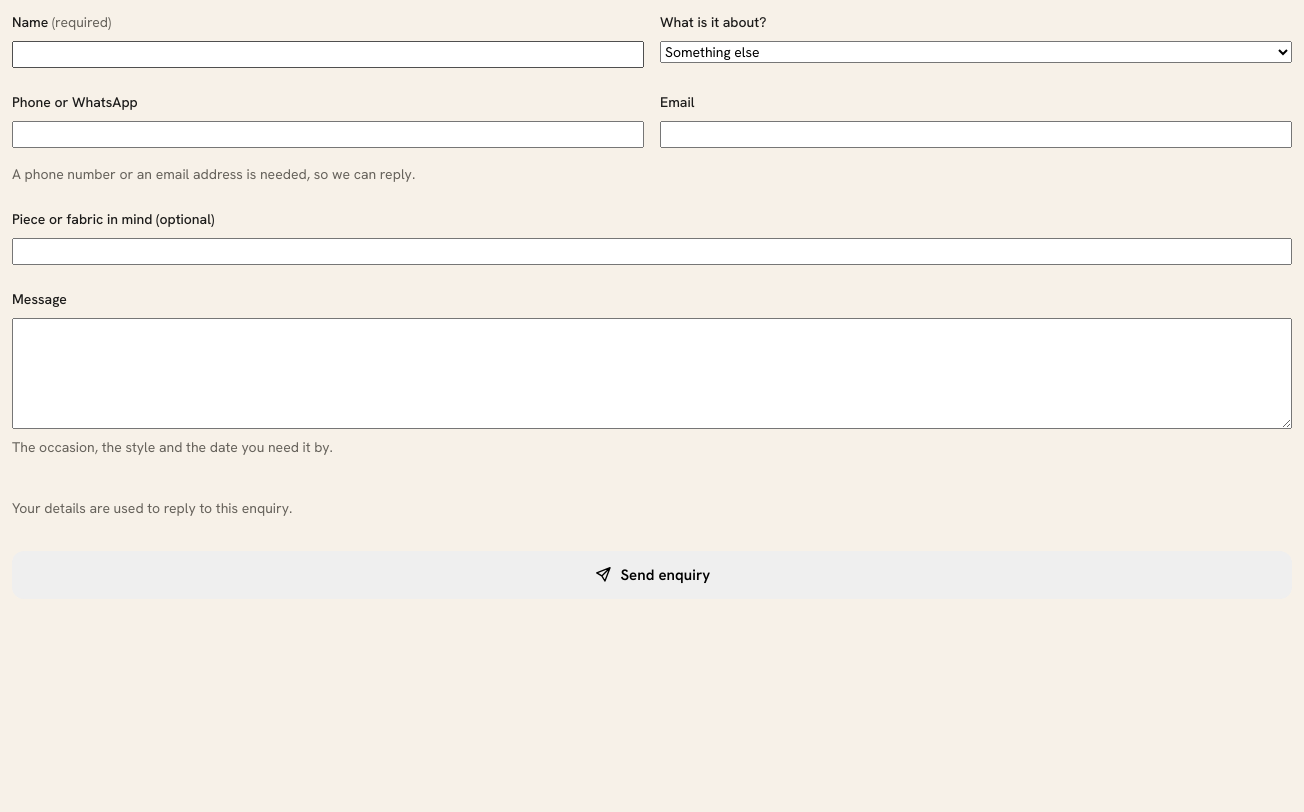
public enquiry form: sending › shows the server message, keeps what was typed and lets the visitor try again
In the field labelled "Name (required)": [328, 54] box [12,41,644,68], type "Ada"
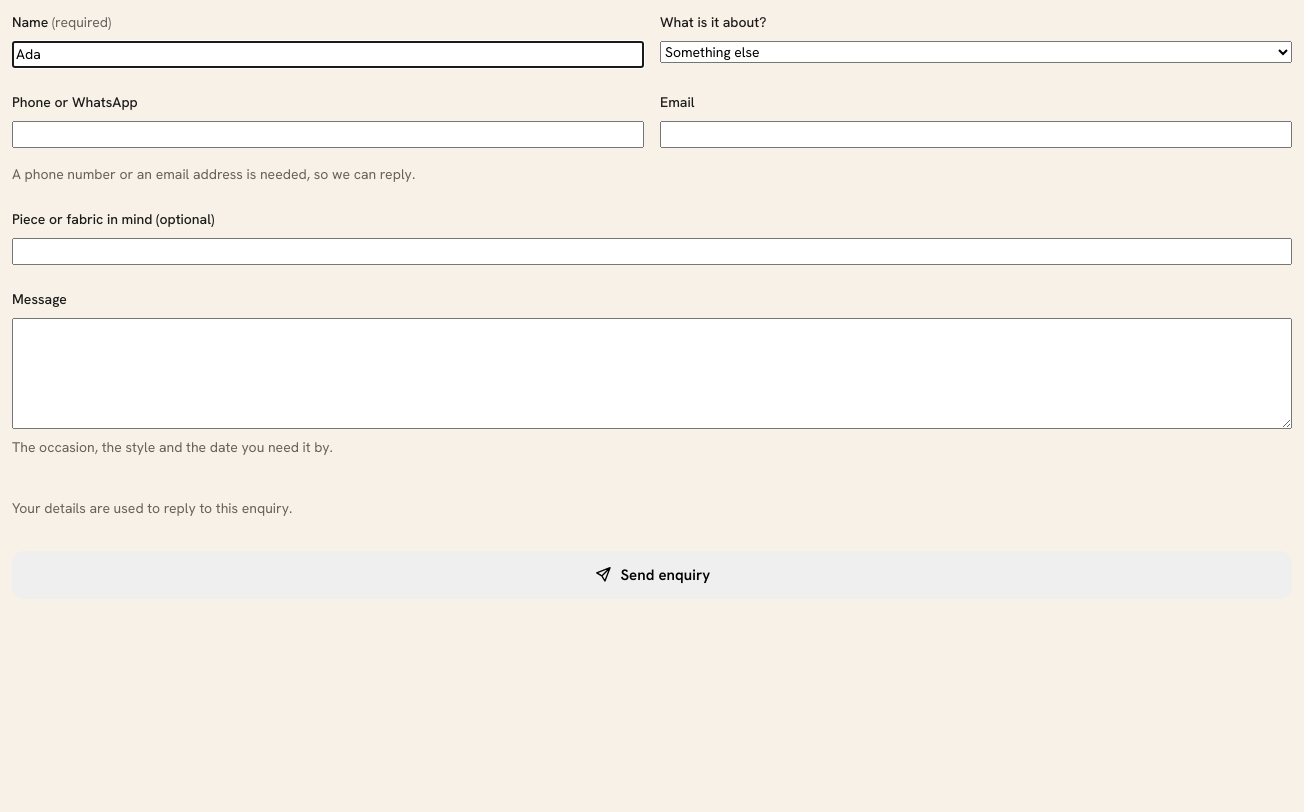
In the field labelled "Phone or WhatsApp": [328, 134] box [12,121,644,148], type "08031234567"
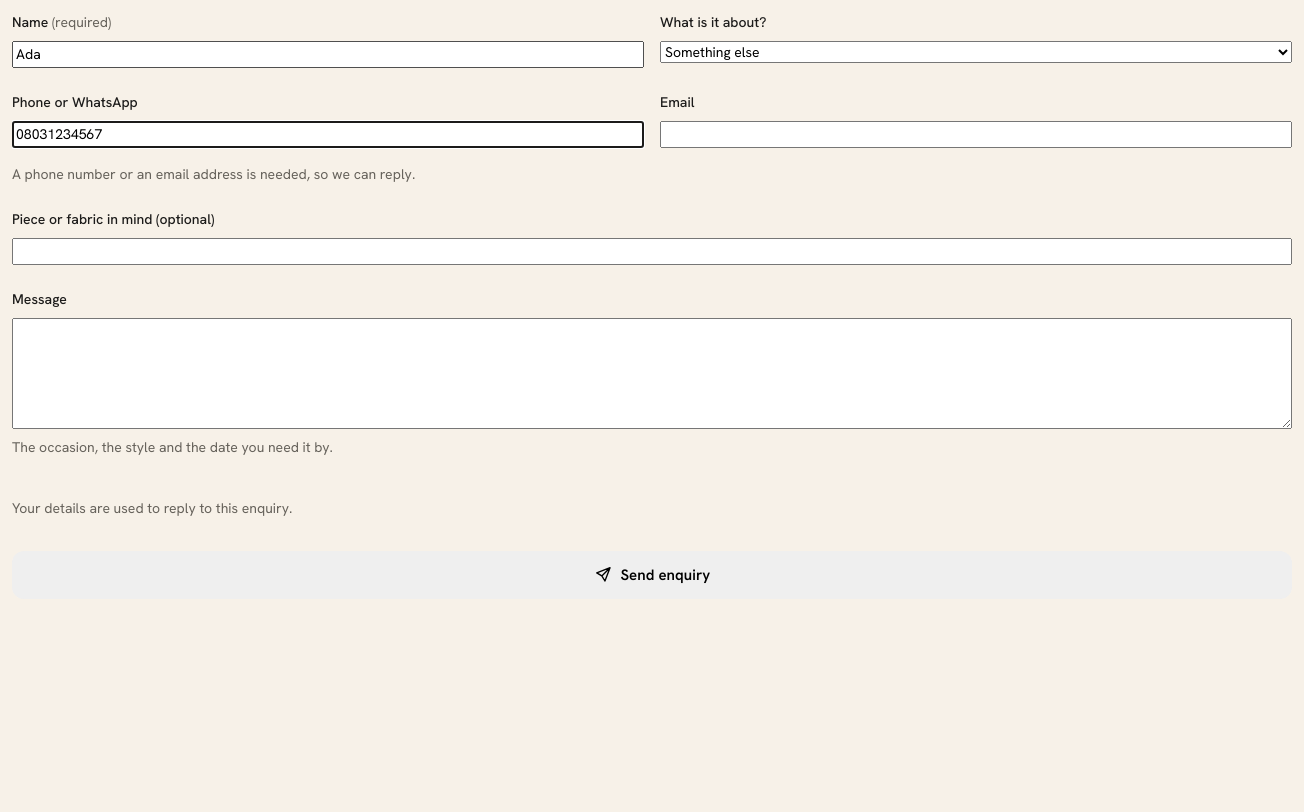
In the text box labelled "Message": [652, 374] box [12,318,1292,429], type "Hello there"
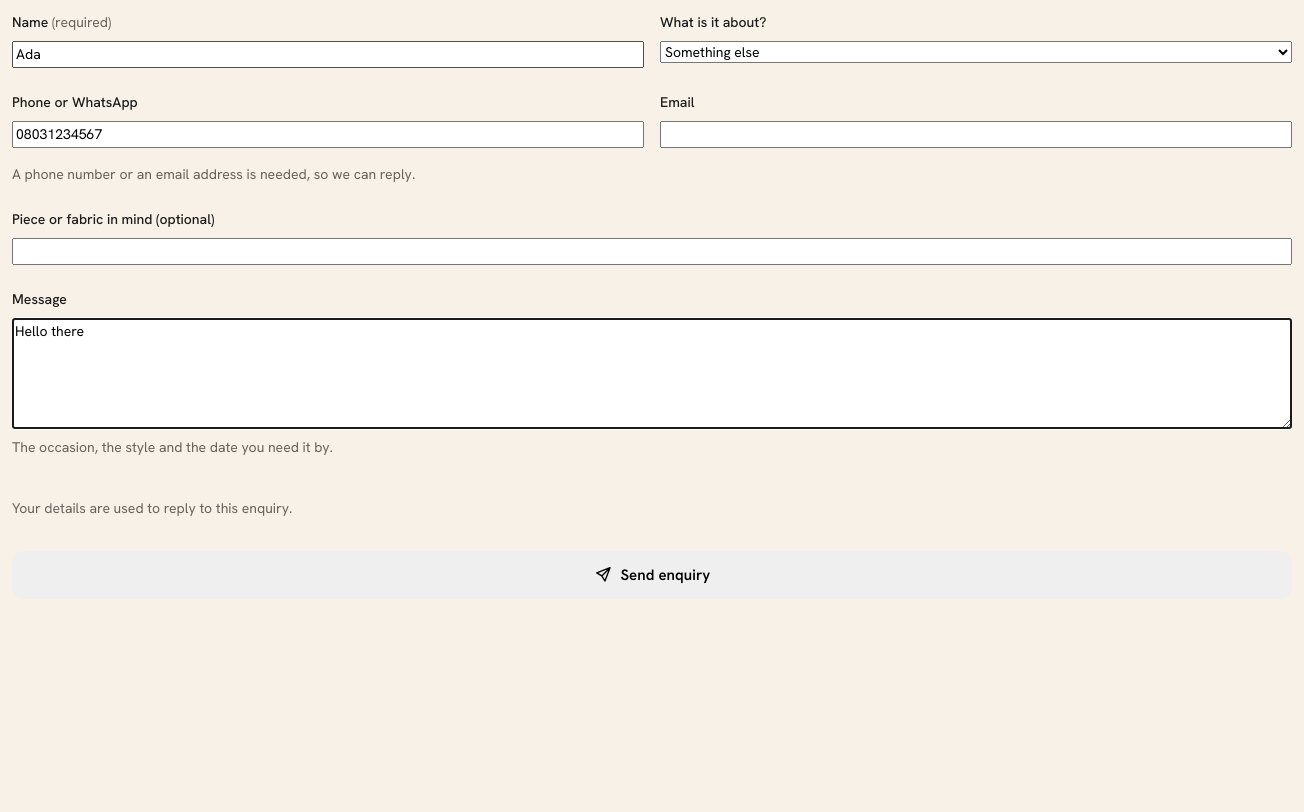
Click the button "Send enquiry": [652, 575] box [12,551,1292,599]
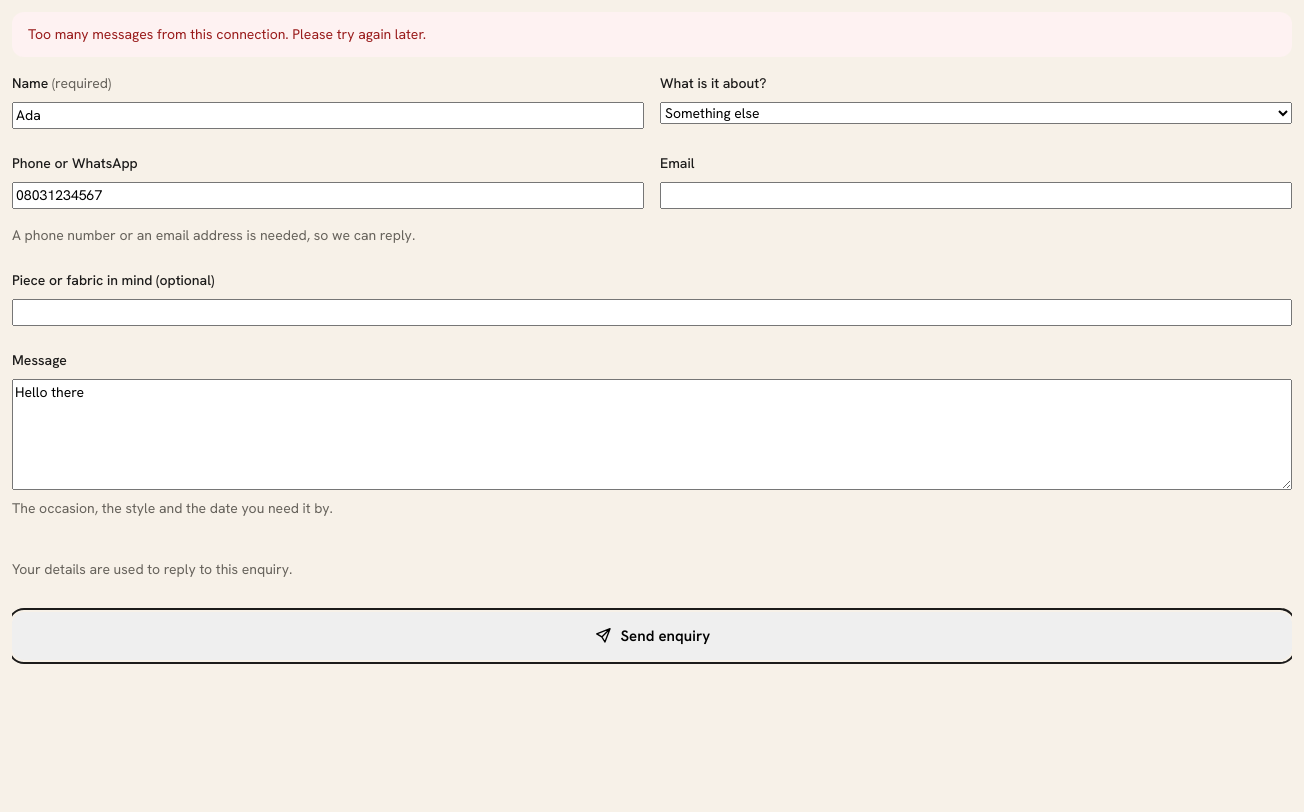
Expected: the text "Too many messages from this connection. Please try again later." is shown, [12,12,1292,57]
Click the button "Send enquiry": [652, 636] box [12,612,1292,660]
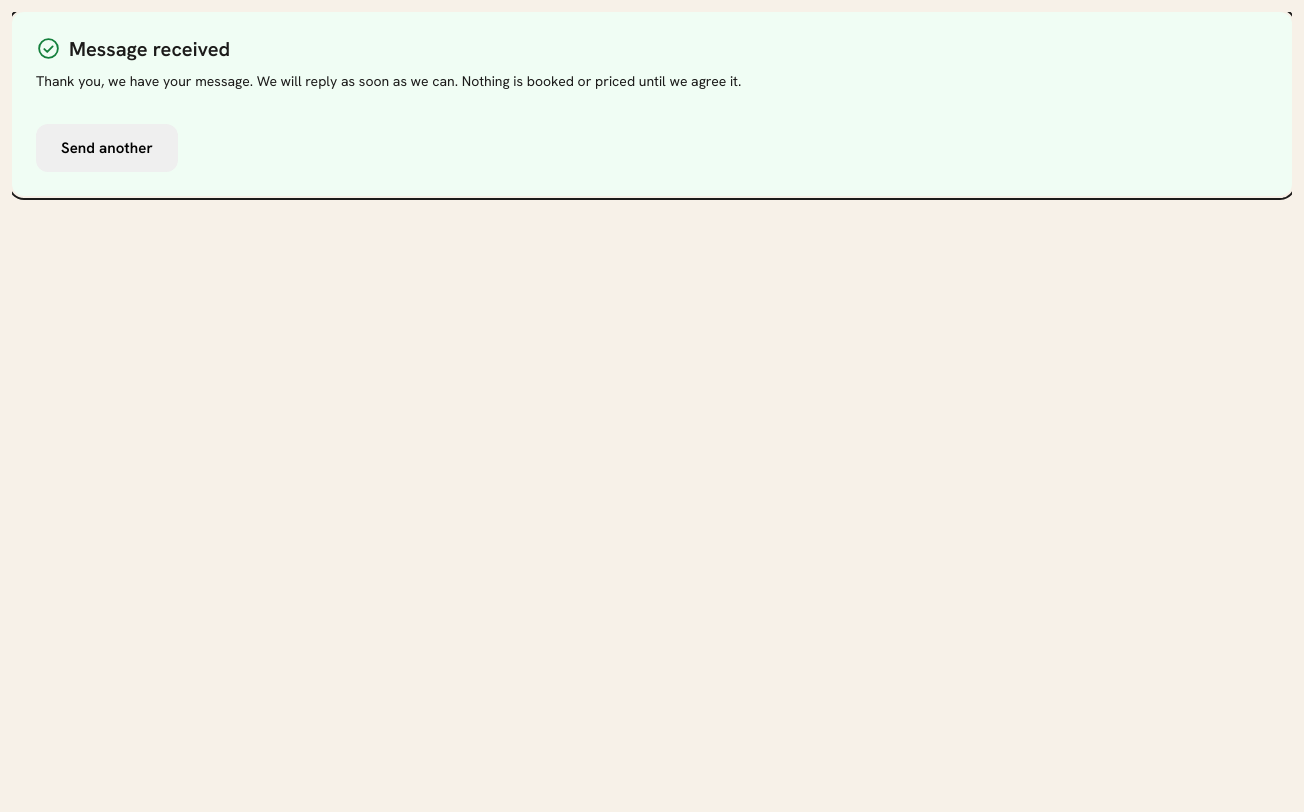
Expected: the heading "Message received" is shown, [36,36,230,62]
